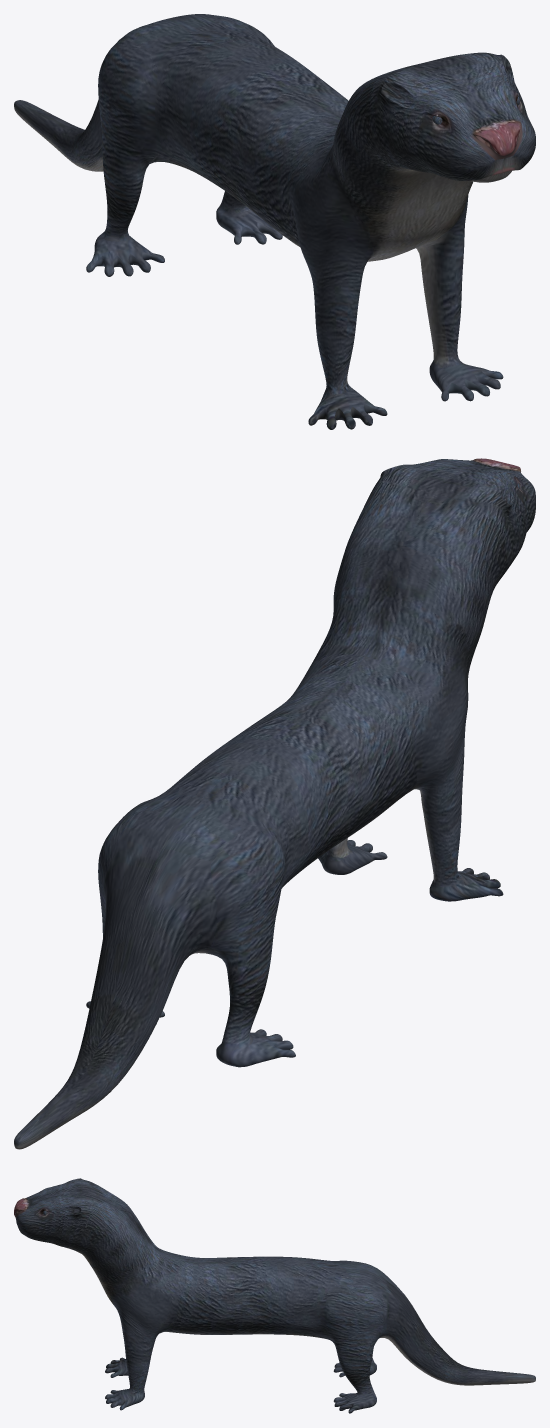
The model's file is otter.obj.
3 renders of one model, top to bottom at view 1: azimuth 30°, elevation 25°; view 2: azimuth 150°, elevation 25°; view 3: azimuth 270°, elevation 25°, orthographic. The views are drawn at different scales.
Visible parts, largest first — view 1: 10031_Otter_v3_L3; view 2: 10031_Otter_v3_L3; view 3: 10031_Otter_v3_L3.
Part boxes in pixels (x1=…): 10031_Otter_v3_L3: x1=14, y1=14, x2=535, y2=429; 10031_Otter_v3_L3: x1=14, y1=458, x2=535, y2=1149; 10031_Otter_v3_L3: x1=14, y1=1178, x2=535, y2=1413.
Bounding box in the file's own units: 2.35 × 3.98 × 9.57.
1 material, 1 textured.
